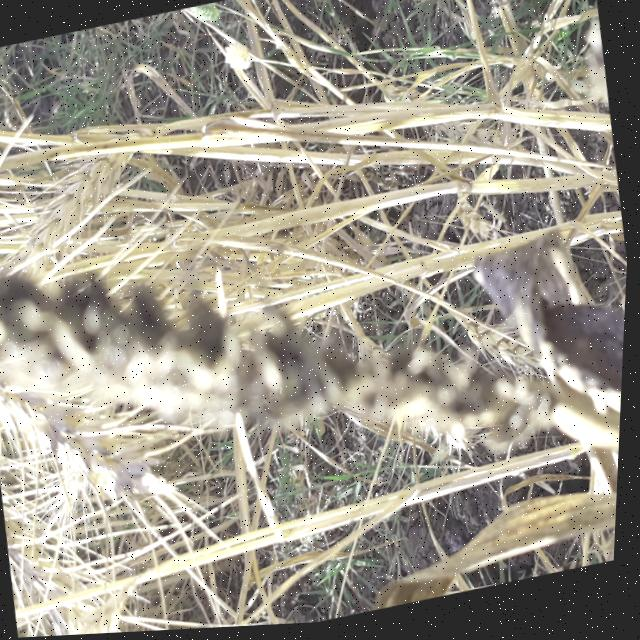loose_charred: (0, 108, 635, 574), (323, 439, 624, 623)
